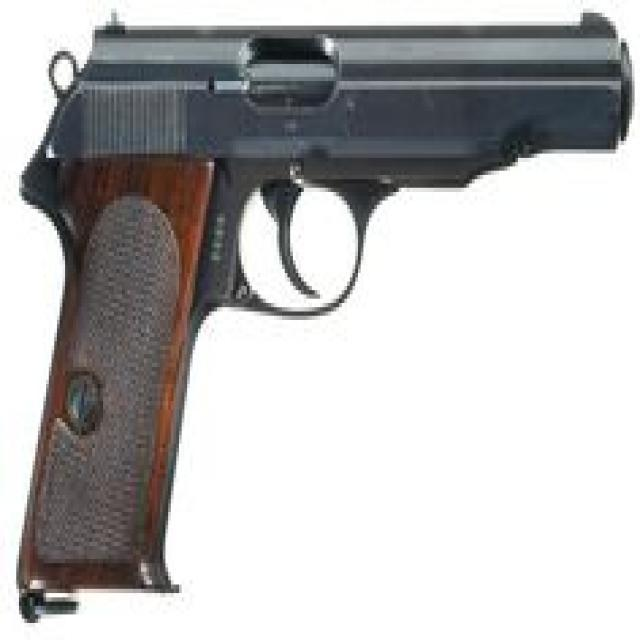semi automatic: (17, 10, 640, 630)
